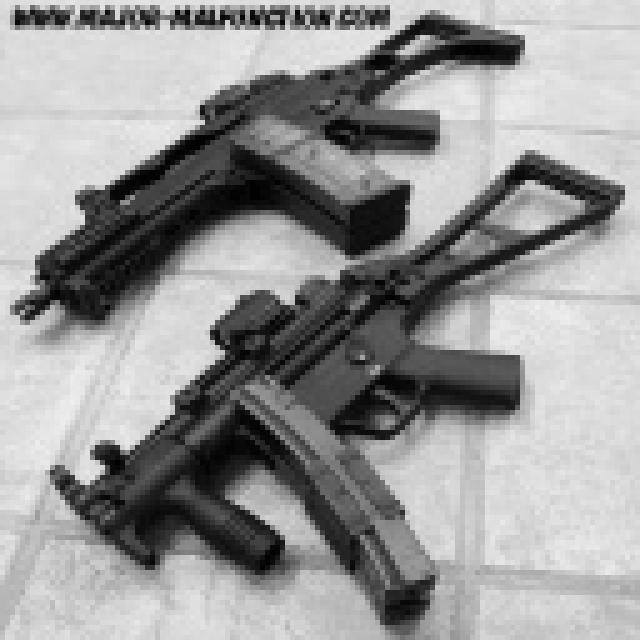Rifle: (29, 120, 640, 640), (0, 0, 545, 355)
